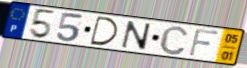5: (27, 8, 58, 40), (55, 11, 85, 43)
C: (158, 25, 190, 57)
D: (89, 15, 120, 47)
F: (187, 28, 221, 58)
N: (120, 19, 153, 52)
